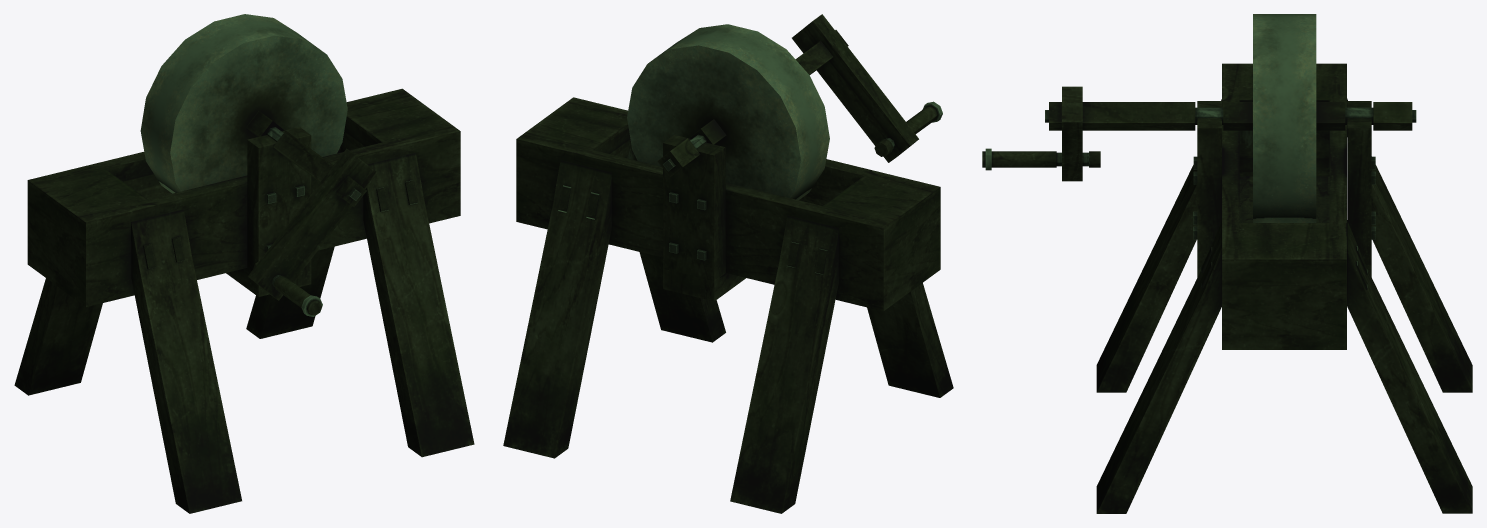
The model's file is asset03_medieval_grindstone.glb.
The picture shows the model from 3 angles, left to right: view 1: azimuth 30°, elevation 25°; view 2: azimuth 150°, elevation 25°; view 3: azimuth 270°, elevation 25°; orthographic projection. The views are drawn at different scales.
Visible parts, largest first — view 1: base_low, meule_low, pied1_low, pied3_low, support_low, pied4_low, manche_low, pied2_low, pivot_low, object 11, soutien1_low; view 2: base_low, meule_low, pied4_low, pied2_low, support_low, pied1_low, manche_low, pied3_low, pivot_low, soutien1_low, object 11; view 3: base_low, meule_low, pied2_low, pied3_low, pied4_low, pied1_low, pivot_low, support_low, manche_low, object 11, soutien_low.
Boxes of the visible parts, x1,y1,x2,y2 form: base_low: (27,88,460,306); meule_low: (140,14,347,193); pied1_low: (131,209,241,513); pied3_low: (363,152,474,457); support_low: (226,127,311,296); pied4_low: (14,278,102,395); manche_low: (247,148,377,300); pied2_low: (246,246,334,338); pivot_low: (246,111,366,206); object 11: (253,261,322,316); soutien1_low: (143,180,417,269); base_low: (516,97,940,311); meule_low: (627,24,829,199); pied4_low: (730,215,838,513); pied2_low: (503,160,611,458); support_low: (663,135,745,301); pied1_low: (867,283,953,397); manche_low: (792,14,918,162); pied3_low: (639,252,725,342); pivot_low: (657,30,848,177); soutien1_low: (558,185,827,274); object 11: (874,101,942,156); base_low: (1222,63,1346,349); meule_low: (1253,14,1316,222); pied2_low: (1347,220,1472,513); pied3_low: (1096,220,1221,513); pied4_low: (1347,98,1472,392); pied1_low: (1096,99,1221,392); pivot_low: (1049,102,1412,130); support_low: (1197,101,1371,277); manche_low: (1062,86,1082,181); object 11: (982,148,1100,170); soutien_low: (1193,156,1375,239).
Bounding box in the file's own units: 92.83 × 91.48 × 98.18.
Materials: 1 (1 with a texture image).
